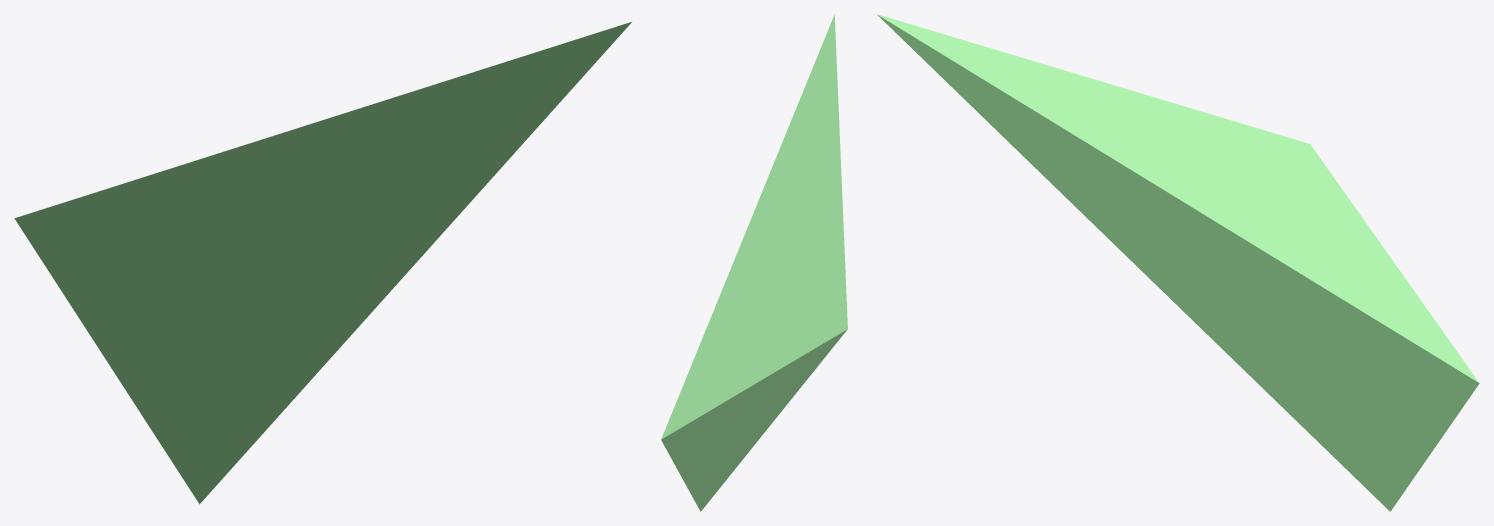
File: UMIRobot_UMIRobot_link_5_convex_coll_32.dae
3 views of the same model, side by side, from view 1: azimuth 30°, elevation 25°; view 2: azimuth 150°, elevation 25°; view 3: azimuth 270°, elevation 25° (orthographic). The views are drawn at different scales.
Parts seen in each view (by area): view 1: node; view 2: node; view 3: node.
Part boxes in pixels (<box>): node: <box>14,22,631,504</box>; node: <box>661,15,847,511</box>; node: <box>877,14,1479,511</box>.
Bounding box in the file's own units: 0.00115 × 0.00245 × 0.00254.
